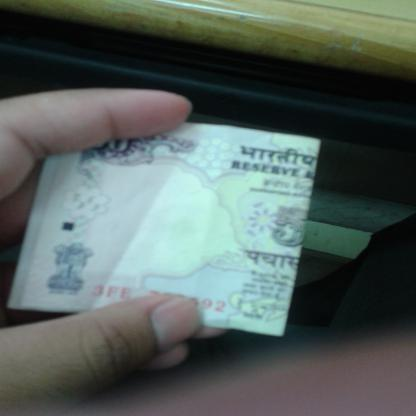Old50Front: (5, 123, 323, 337)
